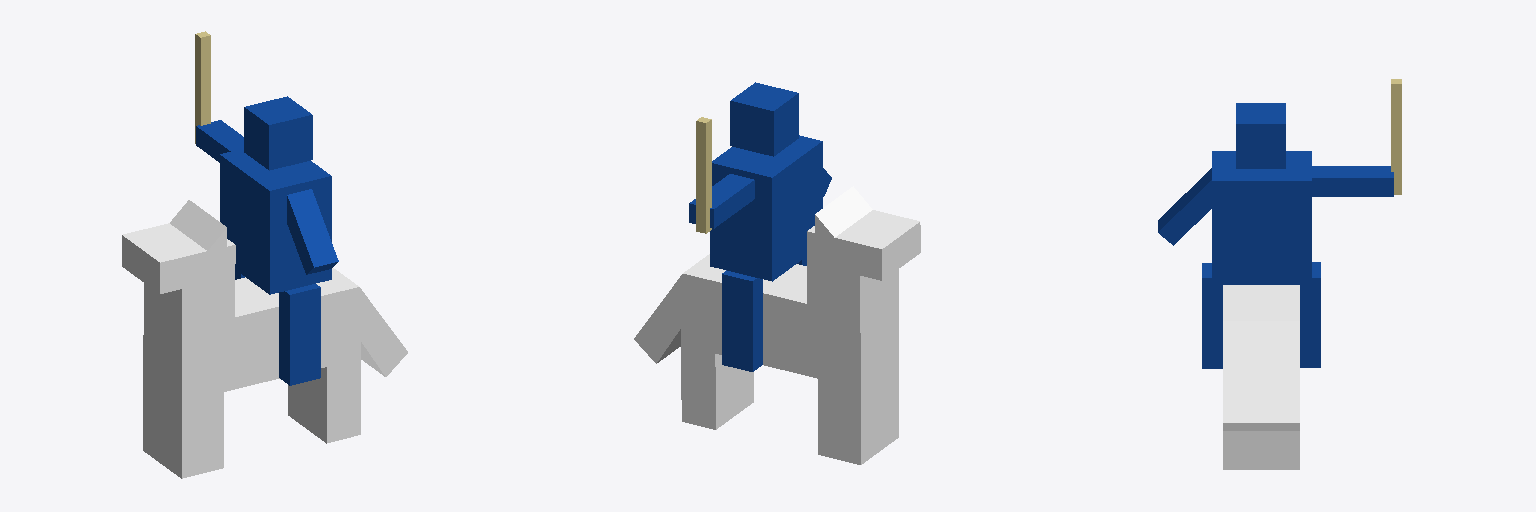
Rendered from BA_Knight_02.obj.
3 views of the same model, side by side, from view 1: azimuth 30°, elevation 25°; view 2: azimuth 150°, elevation 25°; view 3: azimuth 270°, elevation 25° (orthographic).
Visible parts, largest first — view 1: Line002, Box001, Box007, Box003, Box005, Box008, Box006; view 2: Line002, Box001, Box007, Box004, Box008, Box006; view 3: Line002, Box001, Box007, Box006, Box003, Box005, Box004, Box008.
Part boxes in pixels (x1,y1,x2,y2): Line002: (122,200,407,478); Box001: (220,148,331,294); Box007: (244,96,312,170); Box003: (279,284,320,385); Box005: (287,189,338,274); Box008: (195,31,210,143); Box006: (196,120,243,162); Line002: (634,186,920,464); Box001: (710,135,822,281); Box007: (730,82,798,156); Box004: (722,270,762,371); Box008: (696,117,711,233); Box006: (689,174,754,228); Line002: (1223,285,1299,469); Box001: (1212,151,1311,284); Box007: (1236,103,1285,168); Box006: (1312,166,1393,196); Box003: (1202,263,1222,368); Box005: (1158,168,1211,245); Box004: (1300,262,1320,367); Box008: (1391,79,1401,194).
Bounding box in the file's own units: 200 × 273 × 171.